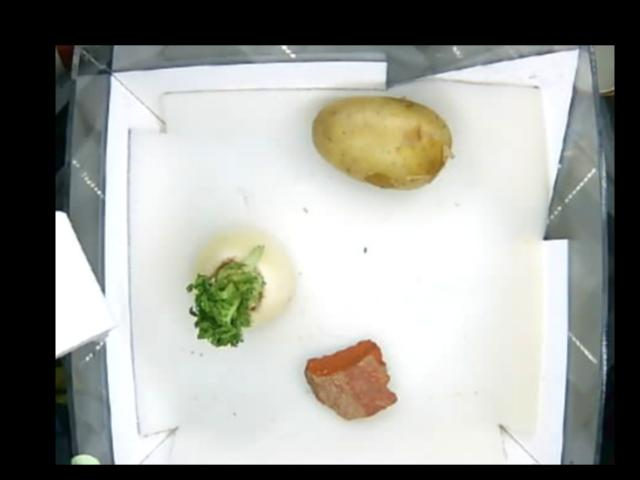Brisk: (303, 341, 401, 420)
Mooli: (190, 228, 297, 345)
Potato: (311, 94, 452, 190)
